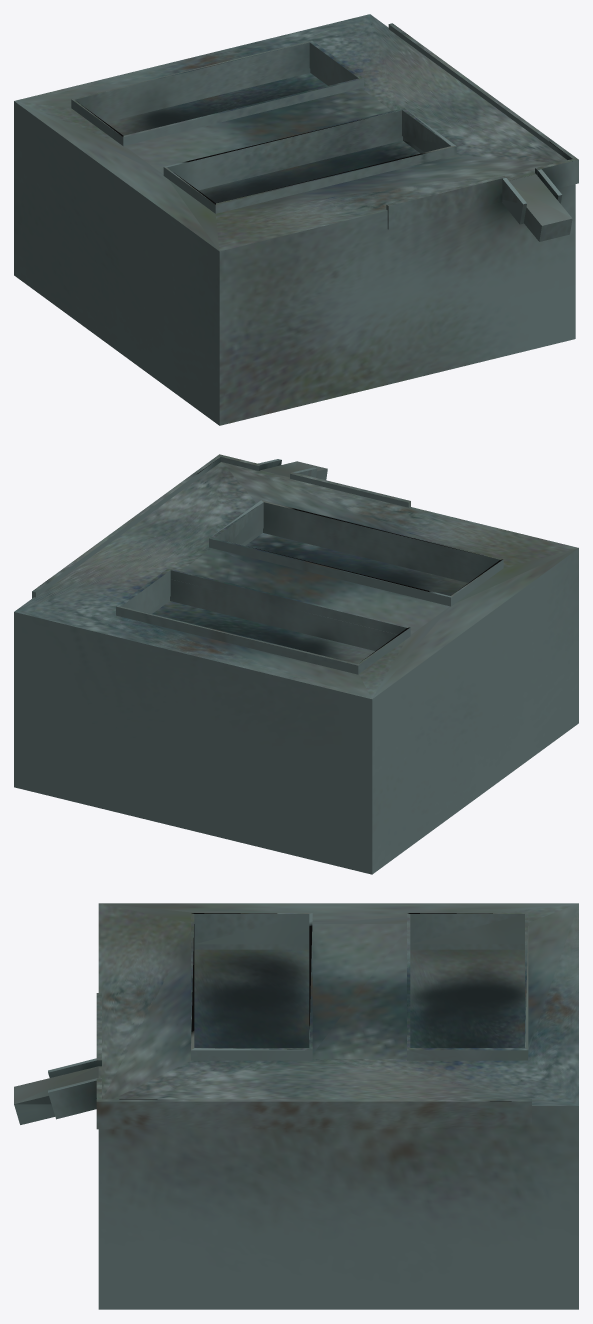
The model's file is Pits.glb.
3 renders of one model, top to bottom at view 1: azimuth 30°, elevation 25°; view 2: azimuth 150°, elevation 25°; view 3: azimuth 270°, elevation 25°, orthographic. The views are drawn at different scales.
Visible parts, largest first — view 1: temp_pits1; view 2: temp_pits1; view 3: temp_pits1.
Boxes of the visible parts, x1,y1,x2,y2 form: temp_pits1: (14,14,578,425); temp_pits1: (14,454,578,874); temp_pits1: (14,903,578,1309).
Bounding box in the file's own units: 20.13 × 9.84 × 23.53.
1 material, 1 textured.
